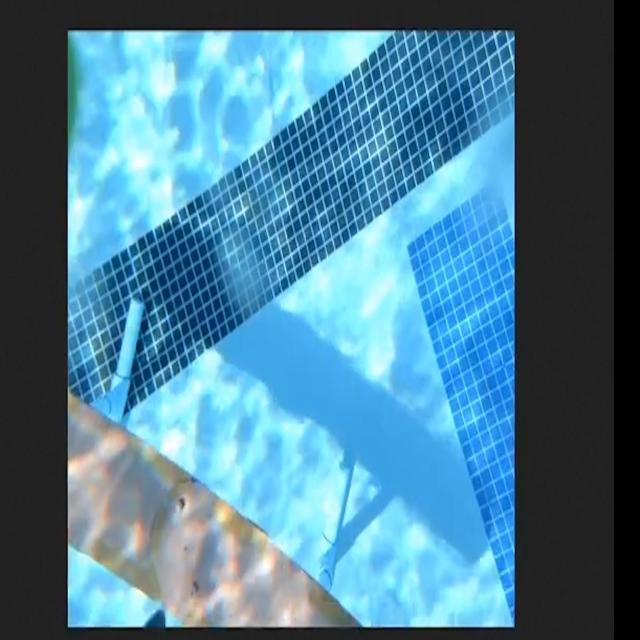Path: (69, 390, 368, 628)
